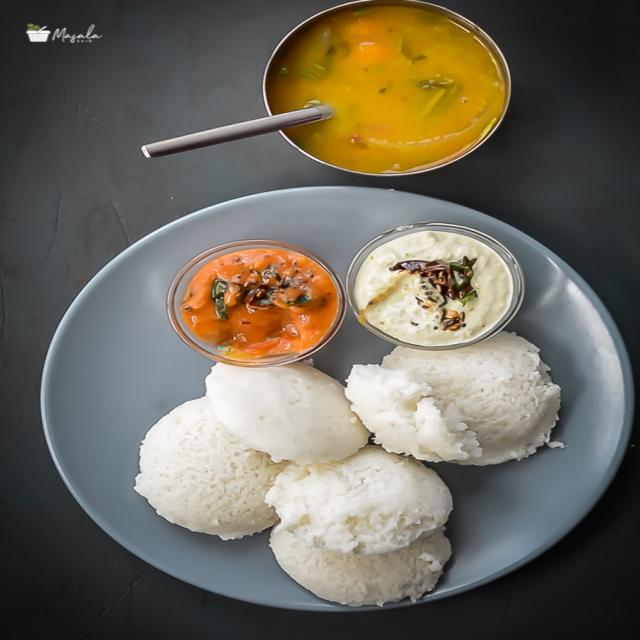chutney: (352, 222, 536, 348), (180, 231, 342, 369)
idli: (163, 386, 489, 585)
sambhar: (266, 0, 512, 181)
